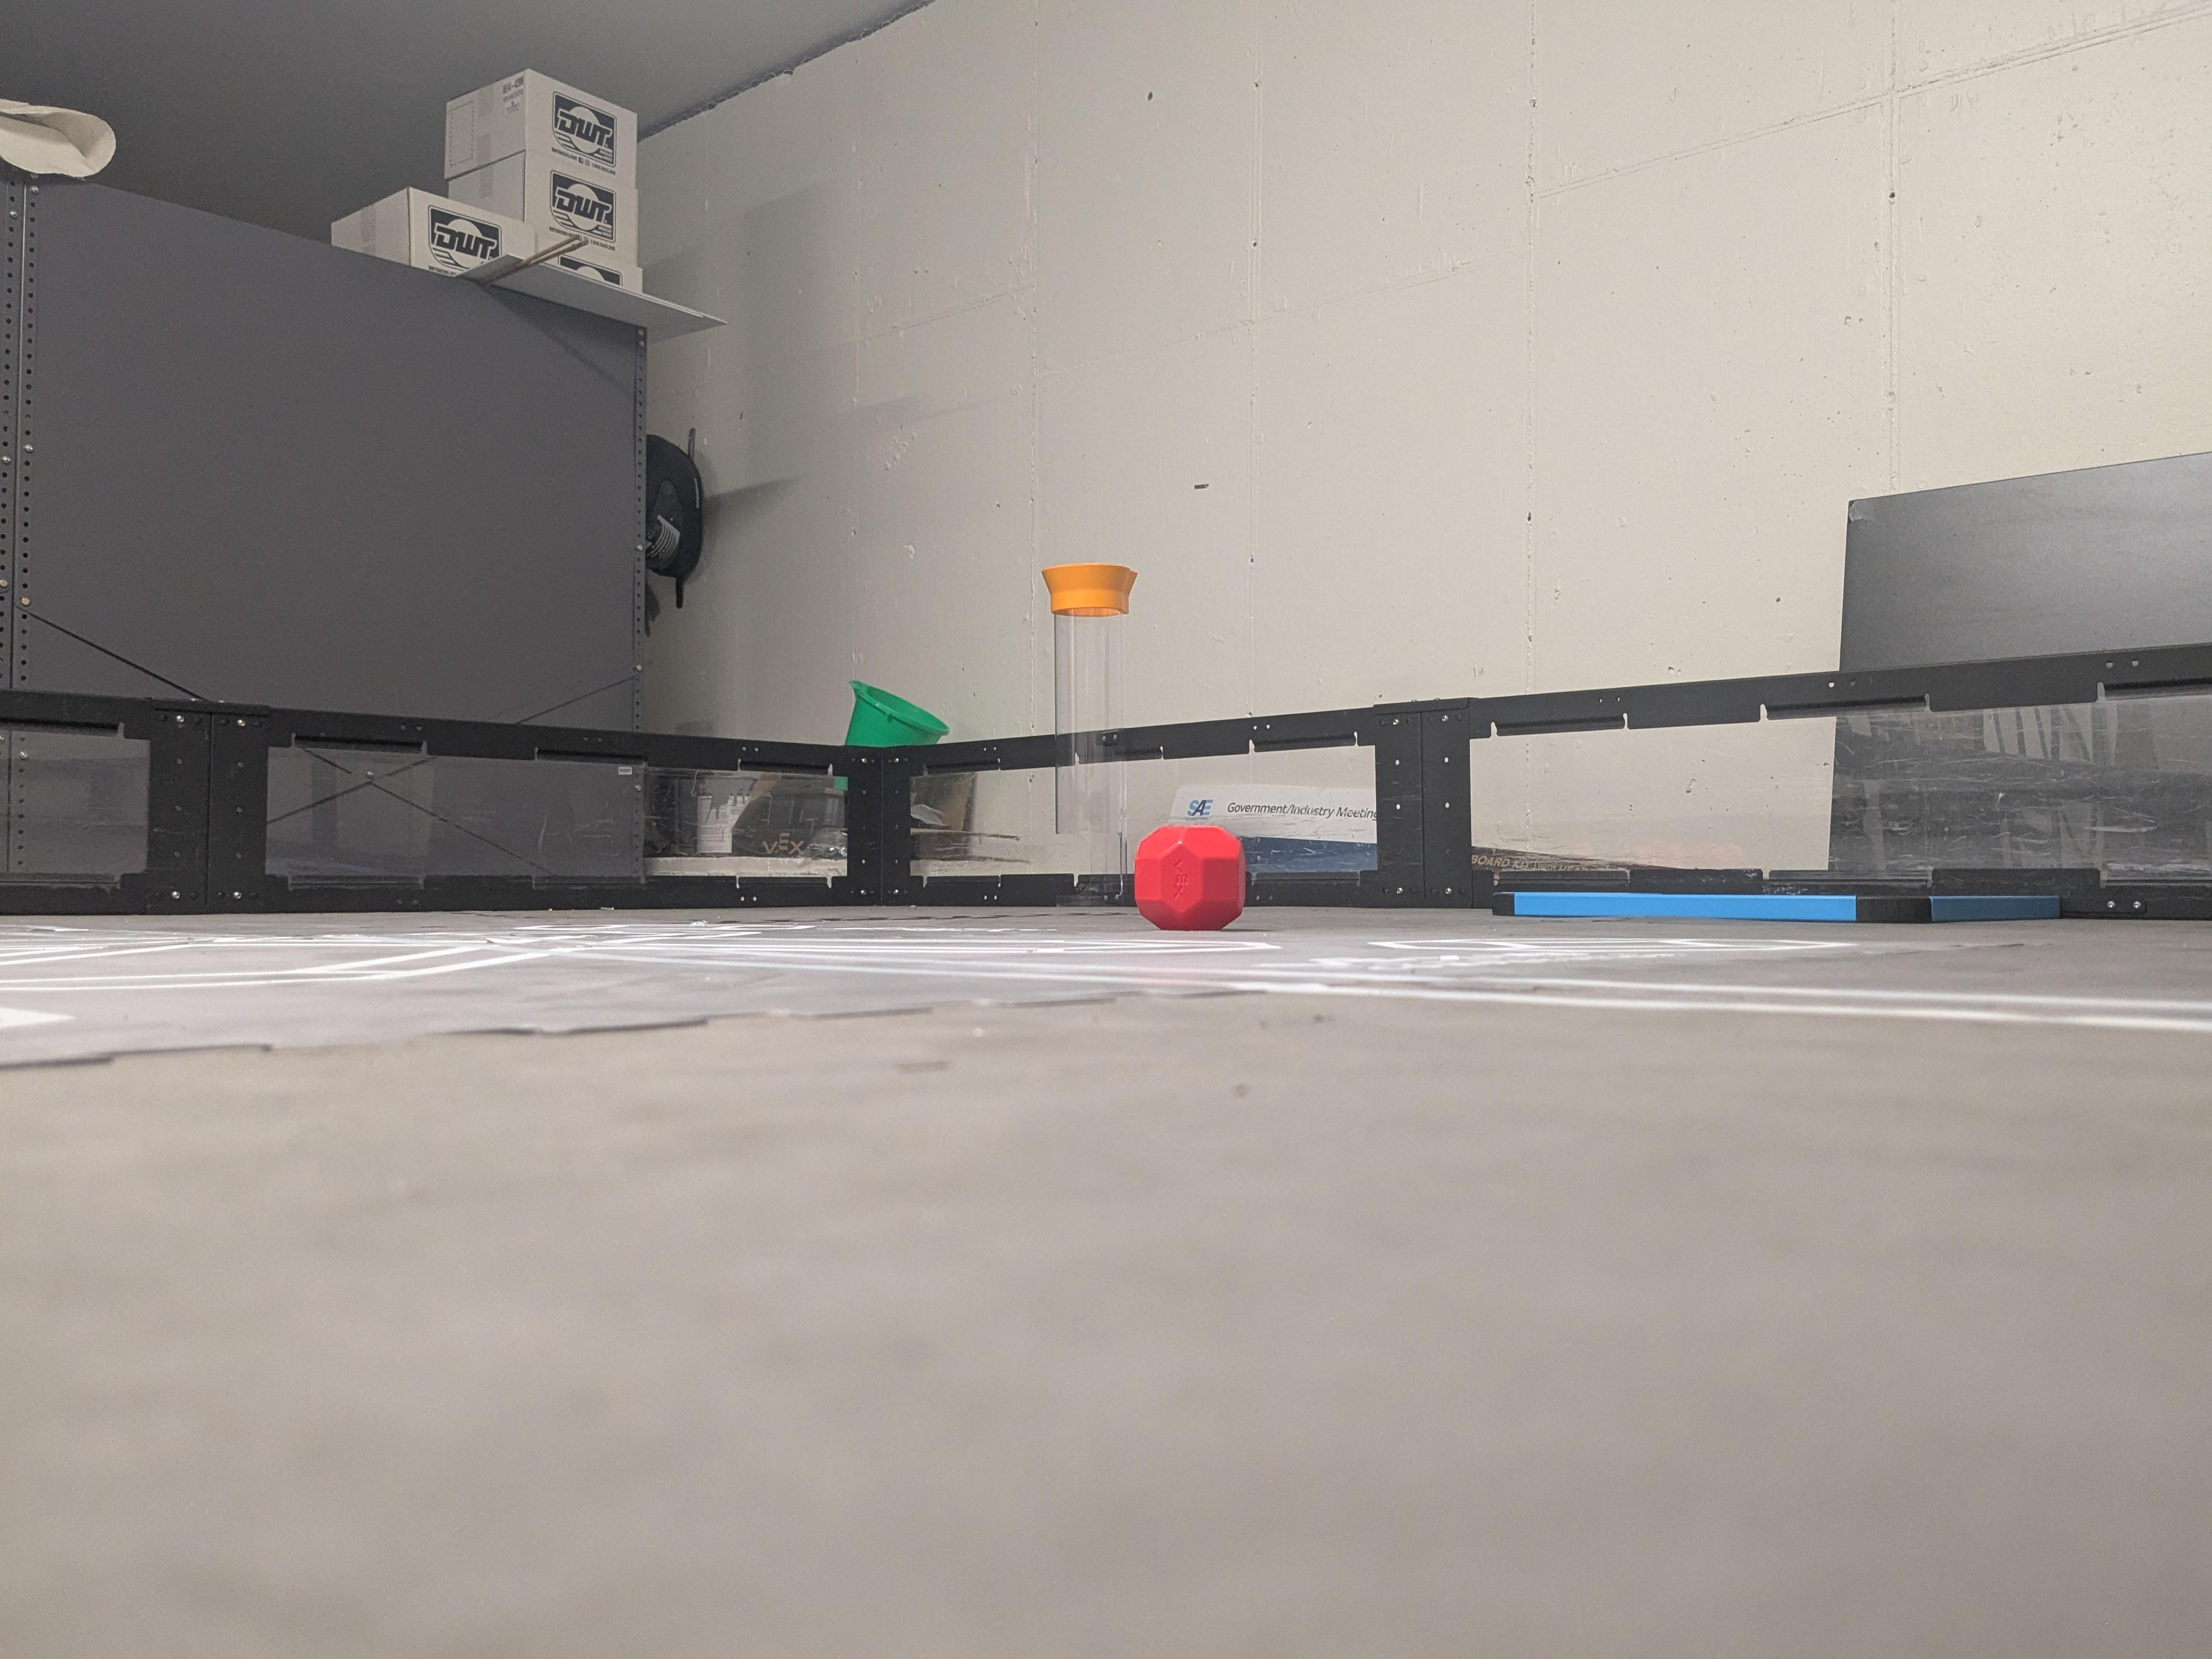Vex-Pieces-RED: (1134, 824, 1245, 929)
